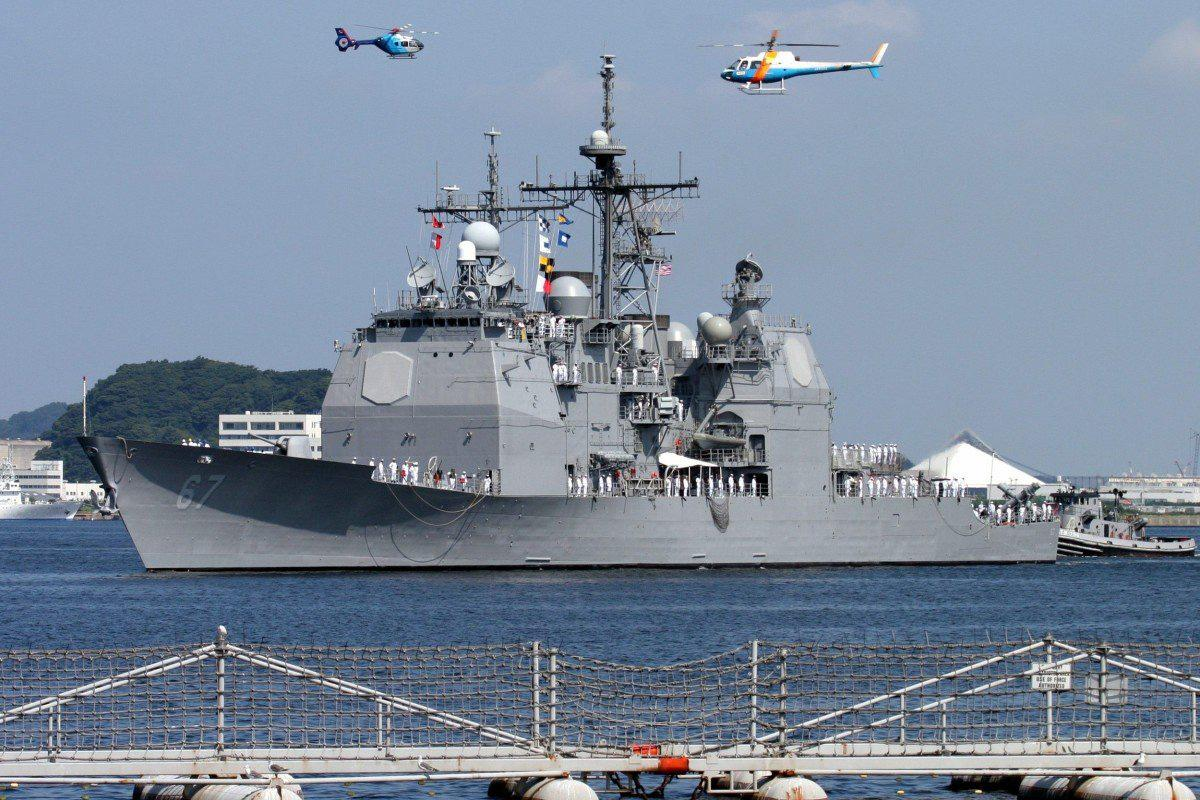MIL_Ship: (72, 52, 1066, 582)
